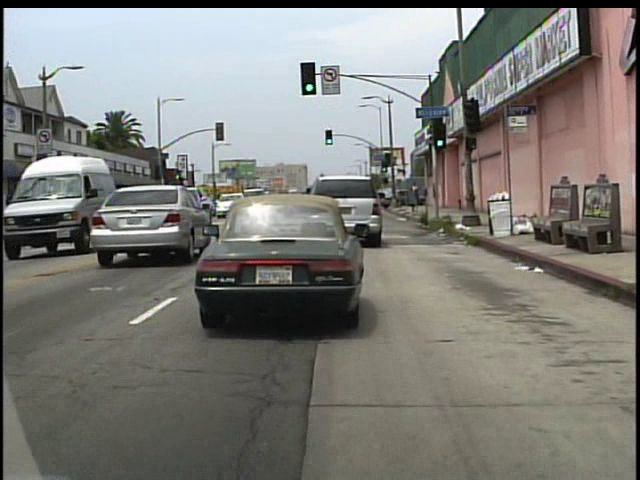person: (412, 181, 424, 208)
